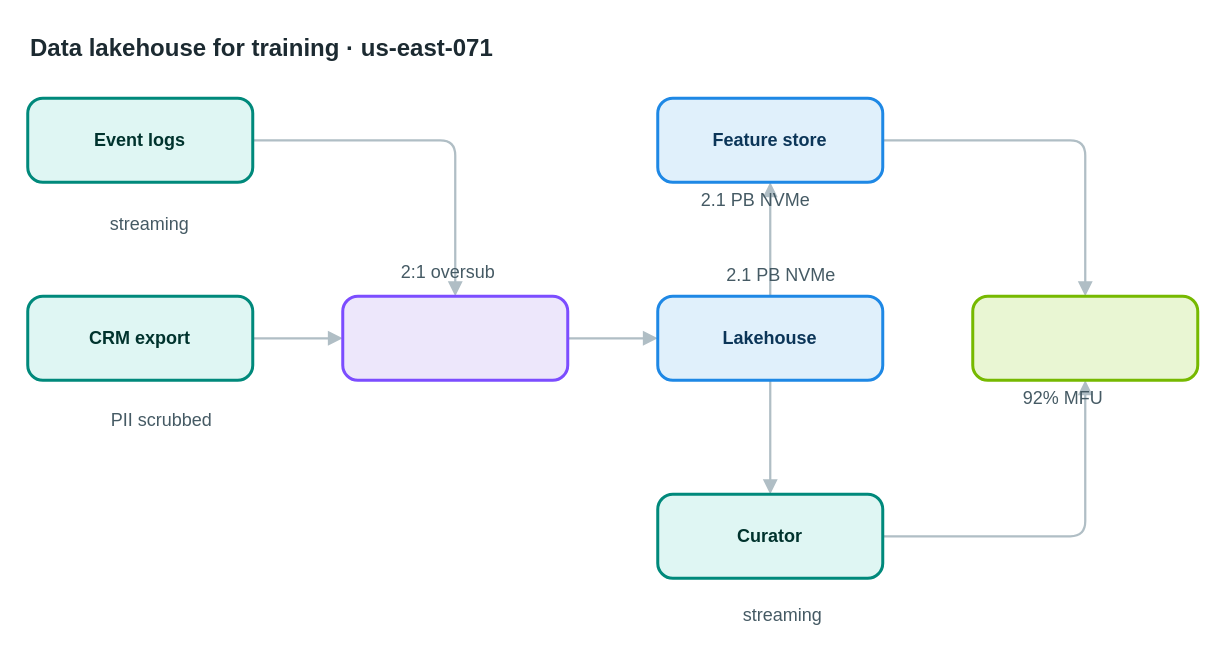
The diagram is 1224 pixels wide and 656 high, and some of its shapes have lost their labels. The shapes that lost their labels are listed below. From the top down, each one's box as (x1, y1, x2, y2) in pixels, then its label:
(340, 294, 568, 381): Stream bus
(970, 294, 1198, 381): Training jobs
